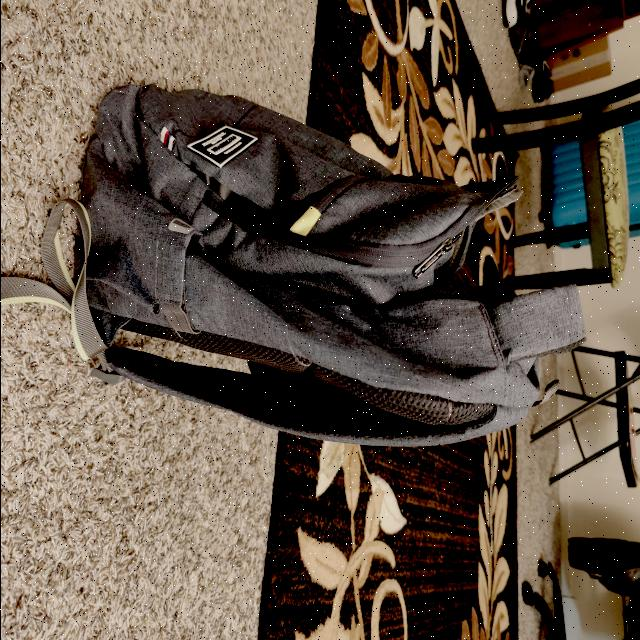bag: (63, 119, 579, 451)
